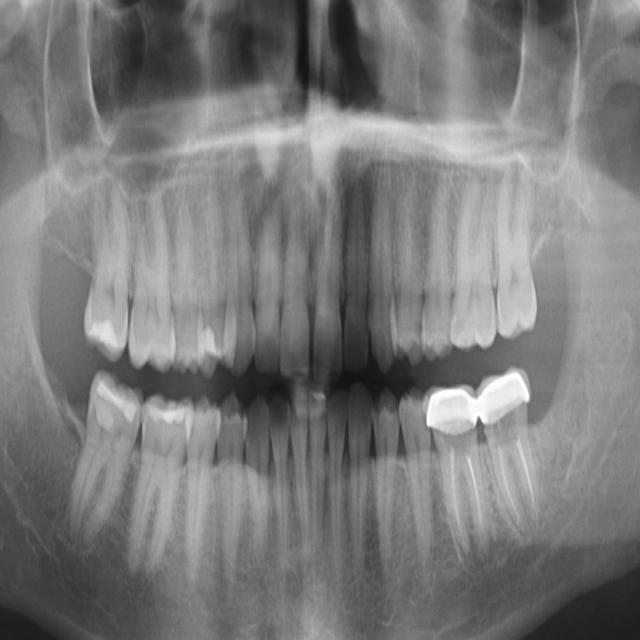dolgu: (472, 371, 539, 422), (419, 393, 484, 436)
kanal-tedavisi: (435, 444, 492, 576), (485, 430, 548, 542)
